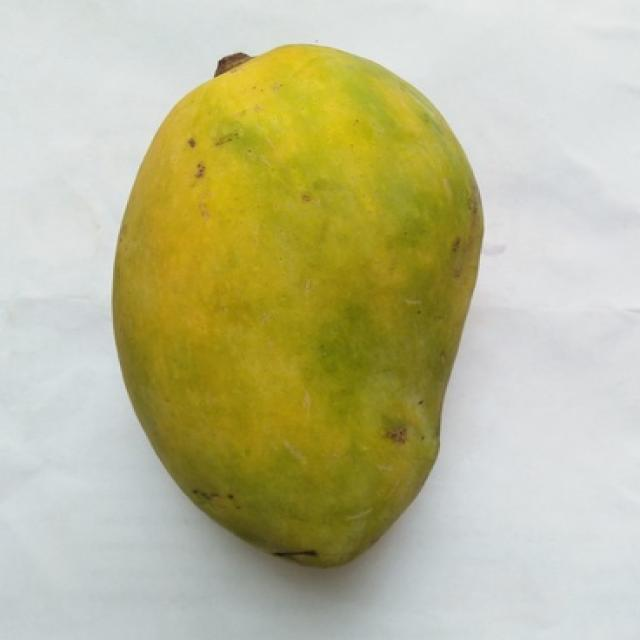Mango: (113, 46, 480, 564)
